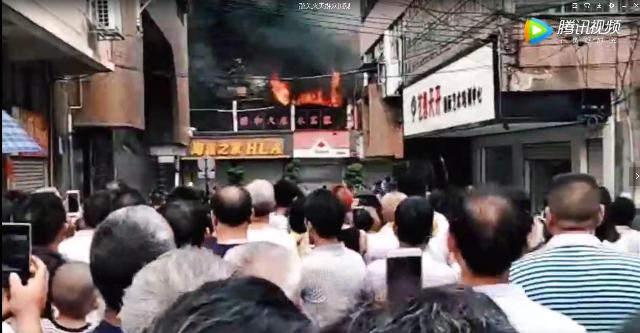fire: (270, 74, 288, 105), (326, 72, 342, 106), (295, 89, 323, 103)
